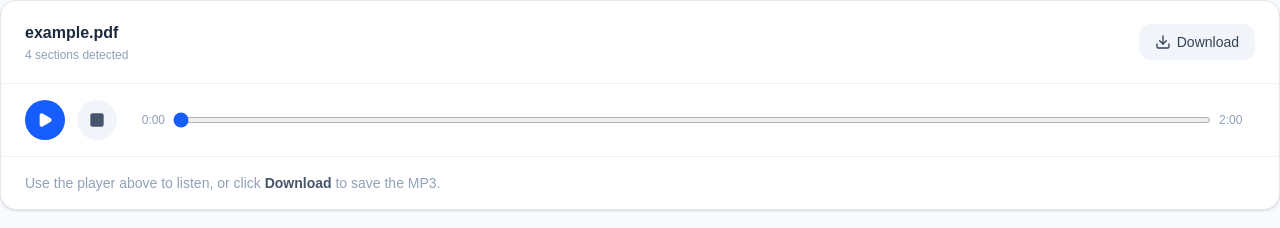
Test: ready state — player › shows Pause button after clicking Play
Click the button titled "Play" at (45, 120), box [25,100,65,140]
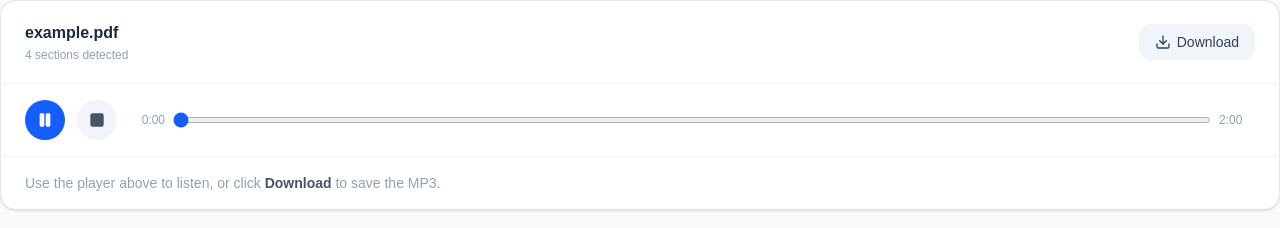
Check: the button titled "Pause" is shown, box [25,100,65,140]
